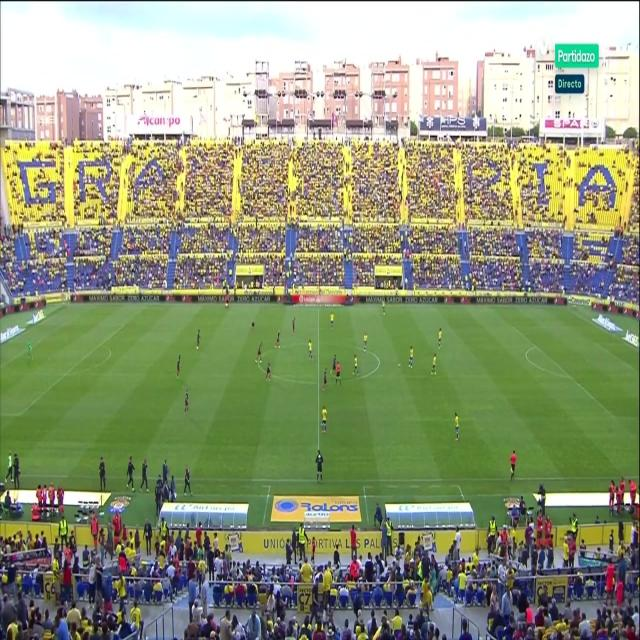Ball: (396, 359, 402, 371)
Goalkeeper: (25, 336, 35, 364)
Player: (319, 403, 329, 437), (253, 339, 264, 367), (318, 367, 328, 394), (264, 359, 274, 385), (182, 386, 191, 414), (454, 411, 461, 446), (329, 351, 339, 375), (429, 352, 438, 378), (194, 325, 203, 351), (272, 326, 281, 352), (351, 351, 359, 379), (307, 338, 315, 364), (407, 342, 414, 370), (436, 325, 444, 349), (175, 351, 182, 378), (362, 330, 369, 354), (290, 315, 297, 337), (330, 310, 336, 328), (381, 300, 386, 318)
Referee: (509, 448, 518, 483), (333, 360, 342, 387), (223, 290, 230, 310)
